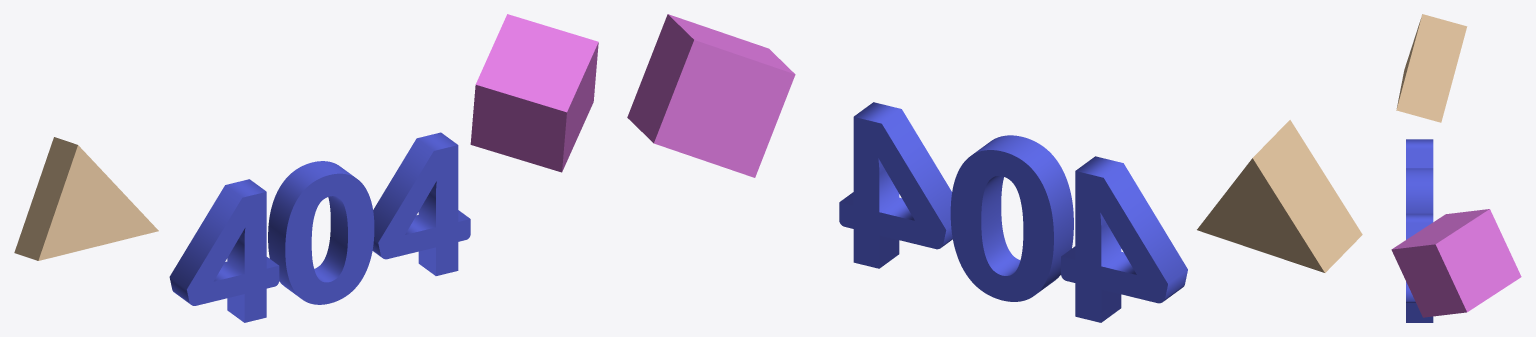
File: 404-H9x5gigk.gltf
3 renders of one model, left to right at view 1: azimuth 30°, elevation 25°; view 2: azimuth 150°, elevation 25°; view 3: azimuth 270°, elevation 25°, orthographic. The views are drawn at different scales.
Parts seen in each view (by area): view 1: Text, Cube, Plane; view 2: Text, Cube, Plane; view 3: Cube, Plane, Text.
Boxes of the visible parts, box(x1,y1,x2,y2) form: Text: box(169, 132, 470, 322); Cube: box(470, 14, 598, 172); Plane: box(14, 137, 158, 260); Text: box(839, 102, 1187, 322); Cube: box(627, 14, 795, 177); Plane: box(1197, 120, 1362, 272); Cube: box(1391, 209, 1521, 317); Plane: box(1396, 14, 1467, 122); Text: box(1406, 139, 1433, 322).
Bounding box in the file's own units: 3.19 × 1.08 × 0.7617.
